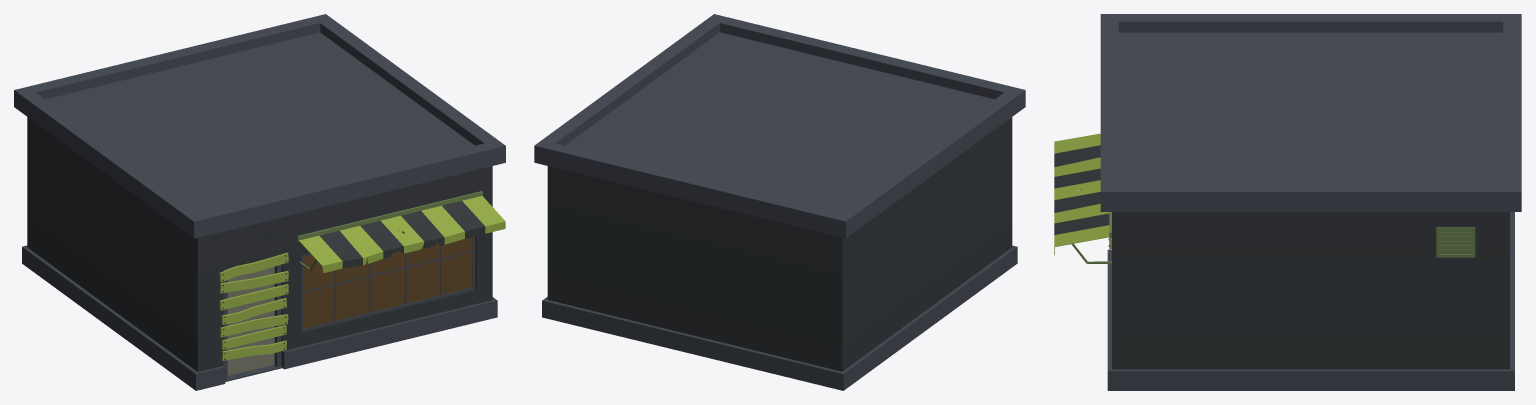
Rendered from OldHouse_11.fbx.
The picture shows the model from 3 angles, left to right: view 1: azimuth 30°, elevation 25°; view 2: azimuth 150°, elevation 25°; view 3: azimuth 270°, elevation 25°; orthographic projection. The views are drawn at different scales.
Parts seen in each view (by area): view 1: OldHouse_11; view 2: OldHouse_11; view 3: OldHouse_11.
Part boxes in pixels (left/top/right/bottom): OldHouse_11: left=14, top=14, right=505, bottom=390; OldHouse_11: left=534, top=14, right=1025, bottom=390; OldHouse_11: left=1054, top=14, right=1521, bottom=390.
Size of the model in its own units: 6.34 by 3.36 by 7.04.
